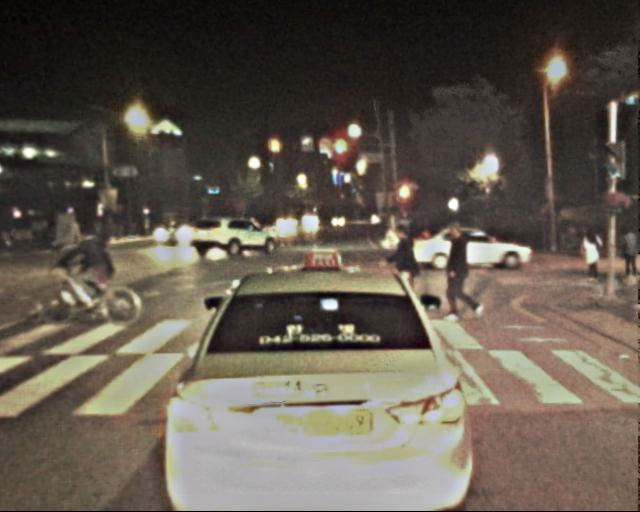person: (387, 229, 428, 330), (442, 227, 483, 328), (80, 219, 116, 307), (580, 227, 606, 290), (615, 224, 640, 285)
